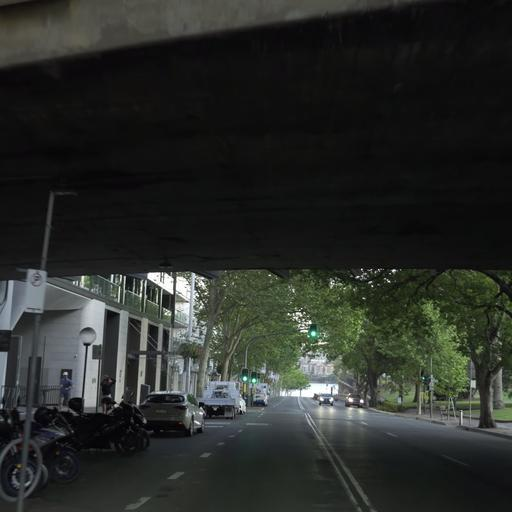Street light: (15, 186, 77, 509), (241, 326, 312, 405), (78, 326, 96, 412), (308, 323, 317, 339)
